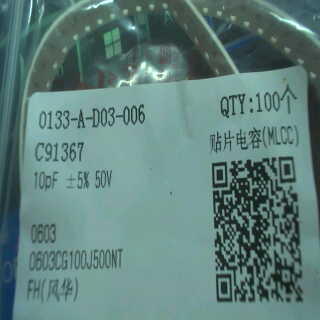10pF: (28, 166, 60, 195)
